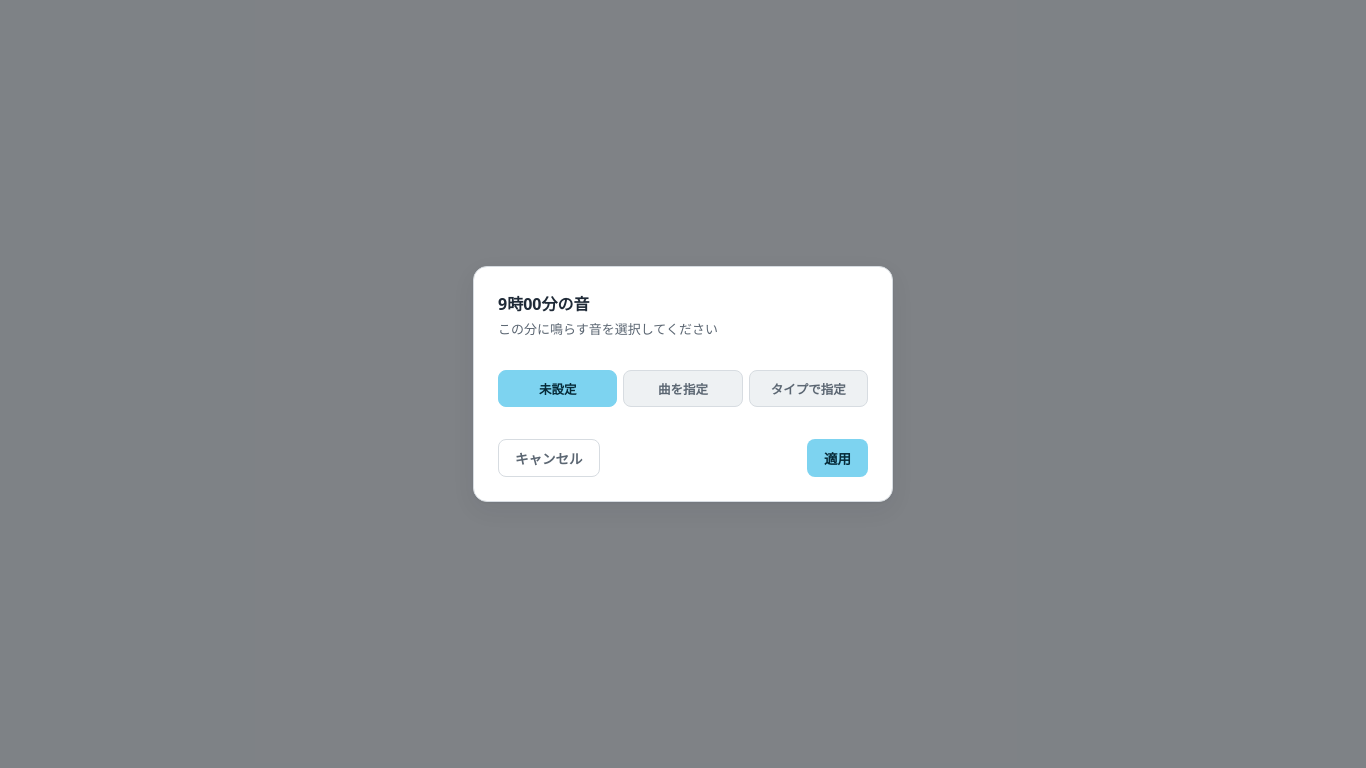
Test: SoundAssignDialog › 「曲を指定」で未選択のうちは適用ボタンが非活性
Click the button "曲を指定" at x=683, y=388, box [623,370,743,407]
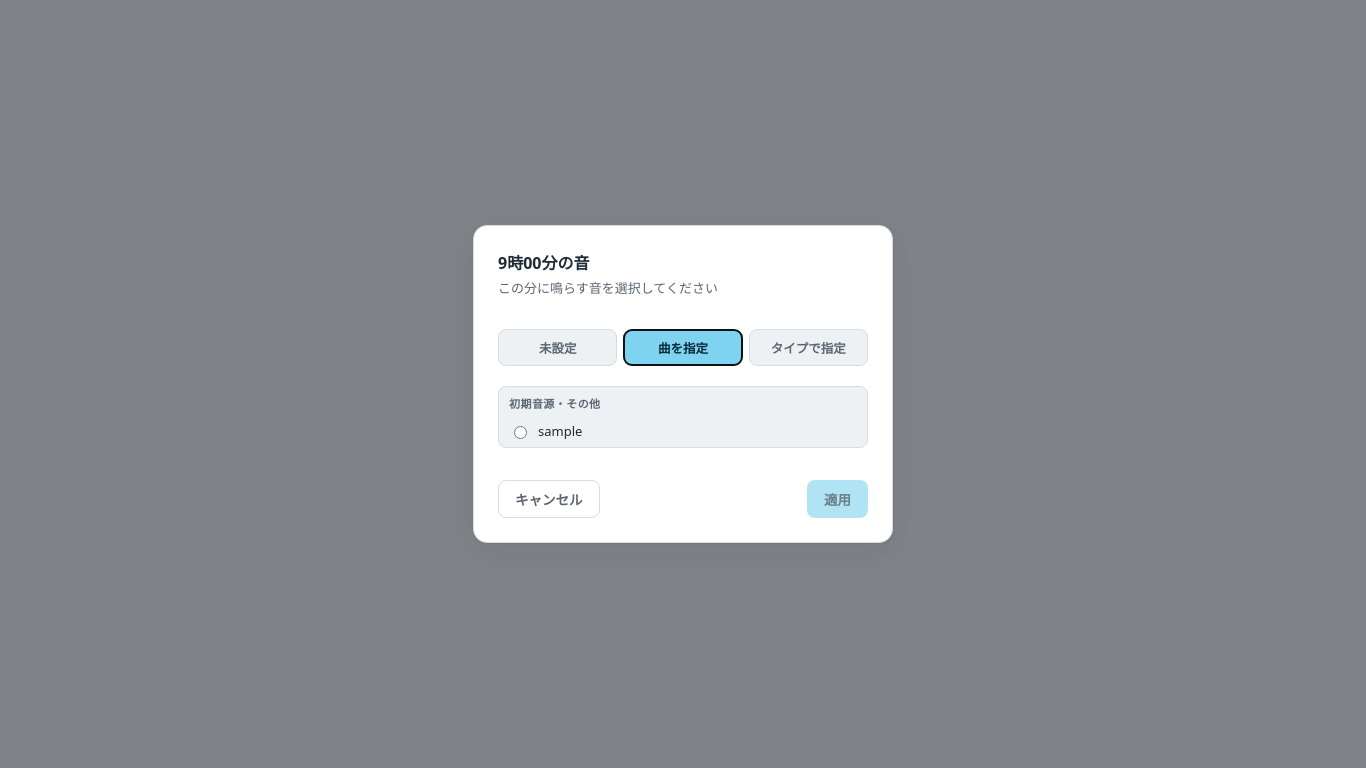
Now the button "適用" is disabled, box [807,480,868,518]
